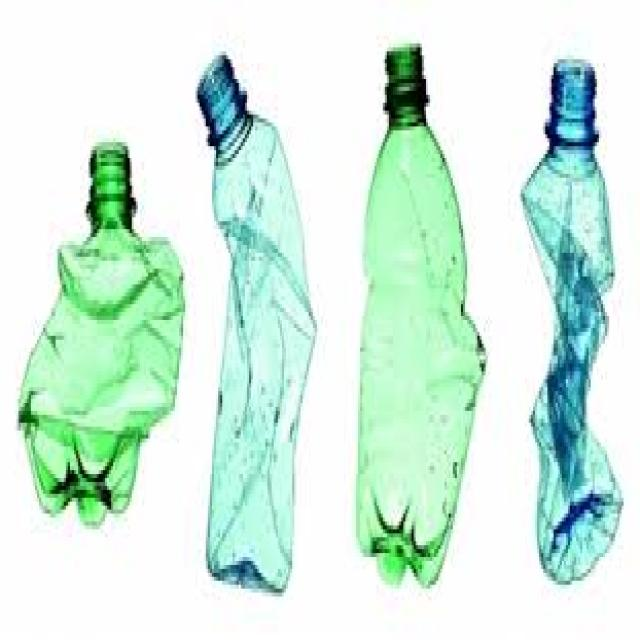plastic: (352, 40, 488, 592), (13, 139, 186, 531), (194, 50, 317, 599), (518, 58, 626, 590)
